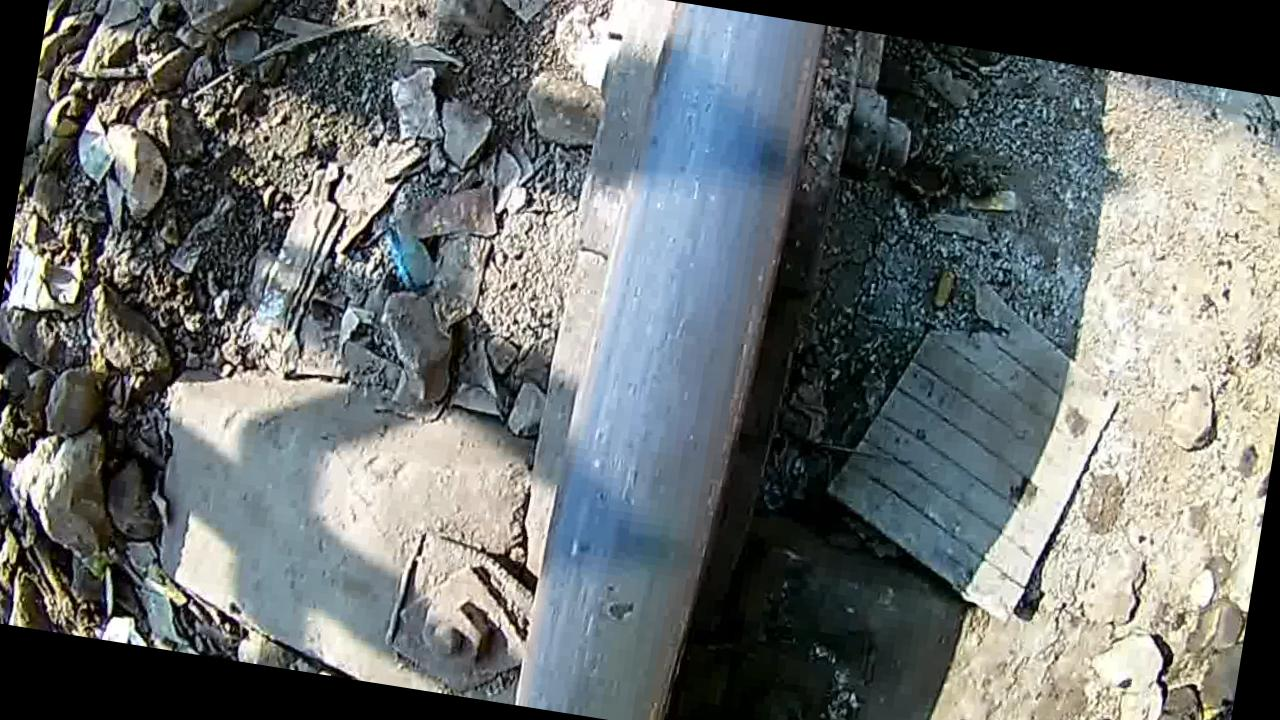crack: (527, 283, 760, 720)
